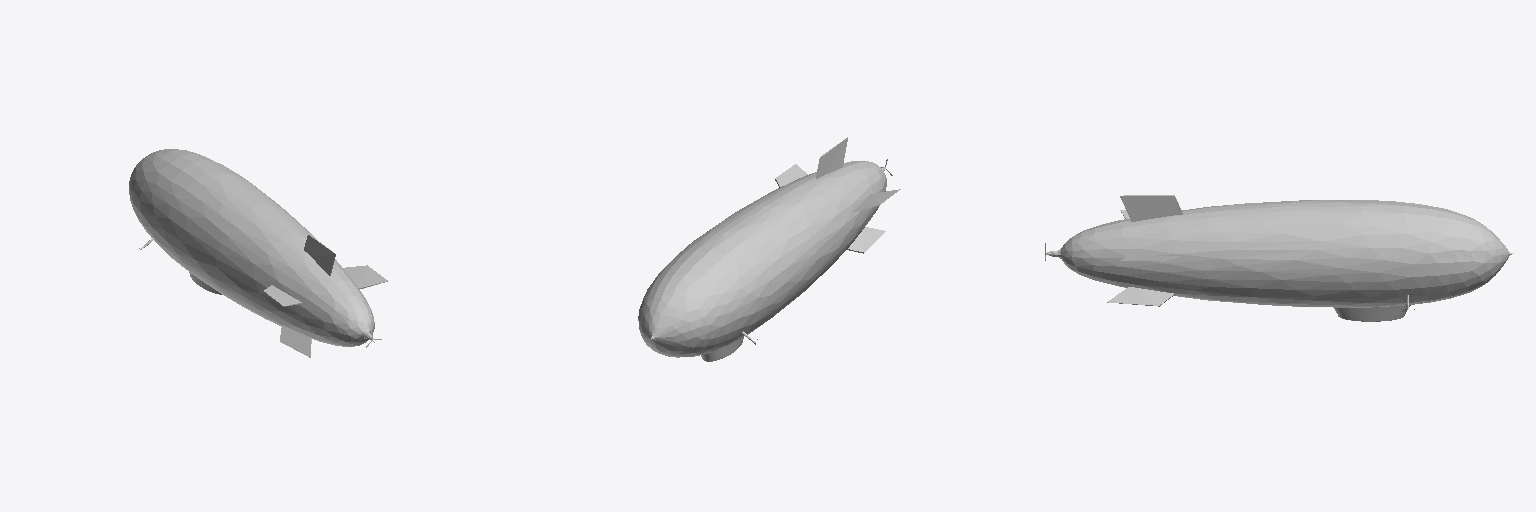
File: Zeppelin.obj
3 views of the same model, side by side, from view 1: azimuth 30°, elevation 25°; view 2: azimuth 150°, elevation 25°; view 3: azimuth 270°, elevation 25° (orthographic).
Visible parts, largest first — view 1: pSphere1, pCube27, pCube26, pCube28; view 2: pSphere1, pCube27, pCube26; view 3: pSphere1, pCube26, pCylinder16, pCube28.
Part boxes in pixels (bbox=[...]): pSphere1: bbox=[129, 149, 374, 346]; pCube27: bbox=[263, 265, 387, 306]; pCube26: bbox=[304, 234, 335, 275]; pCube28: bbox=[280, 326, 374, 357]; pSphere1: bbox=[638, 161, 886, 357]; pCube27: bbox=[775, 164, 900, 211]; pCube26: bbox=[816, 137, 847, 178]; pSphere1: bbox=[1045, 200, 1513, 307]; pCube26: bbox=[1120, 195, 1182, 221]; pCylinder16: bbox=[1333, 305, 1410, 321]; pCube28: bbox=[1107, 287, 1174, 306].
Size of the model in its own units: 2.87 by 3.05 by 10.77.